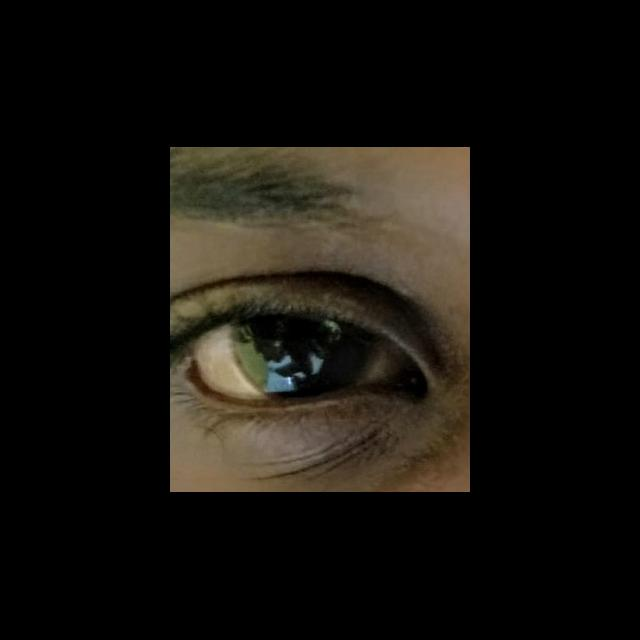eye: (186, 309, 408, 404)
iris: (231, 310, 369, 402)
